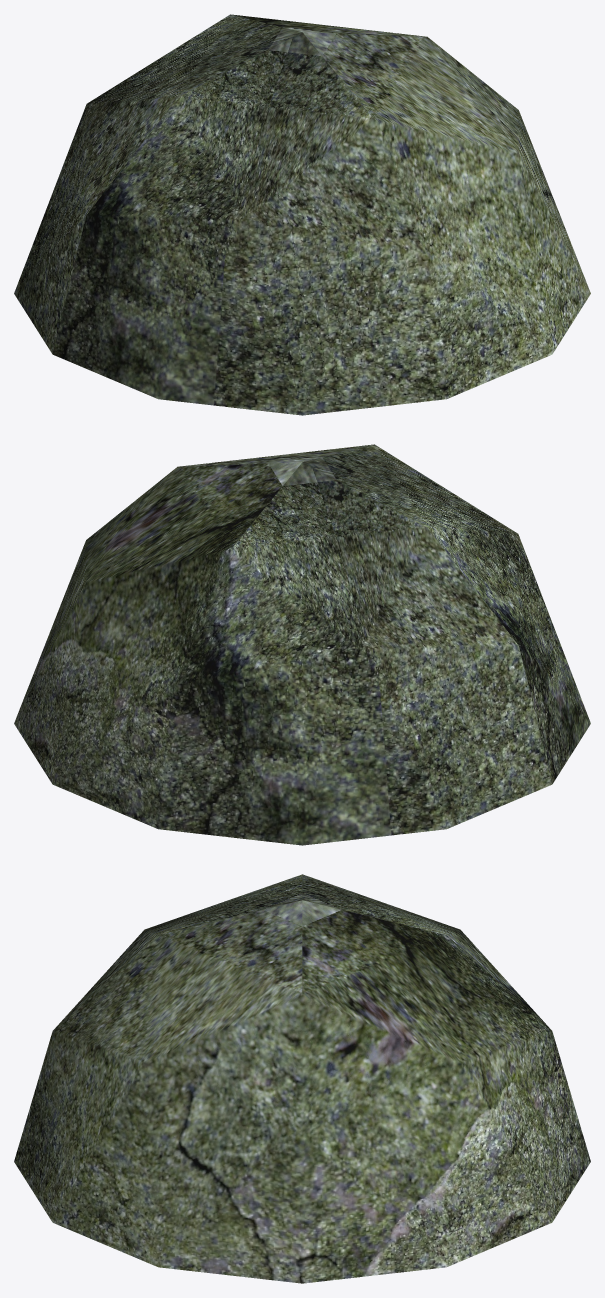
The model's file is stein2.DAE.
3 renders of one model, top to bottom at view 1: azimuth 30°, elevation 25°; view 2: azimuth 150°, elevation 25°; view 3: azimuth 270°, elevation 25°, orthographic.
Visible parts, largest first — view 1: Geosph_re001; view 2: Geosph_re001; view 3: Geosph_re001.
Boxes of the visible parts, bbox=[...] form: Geosph_re001: bbox=[14, 14, 590, 415]; Geosph_re001: bbox=[14, 444, 590, 845]; Geosph_re001: bbox=[14, 874, 590, 1283].
Bounding box in the file's own units: 57.44 × 57.44 × 28.72.
